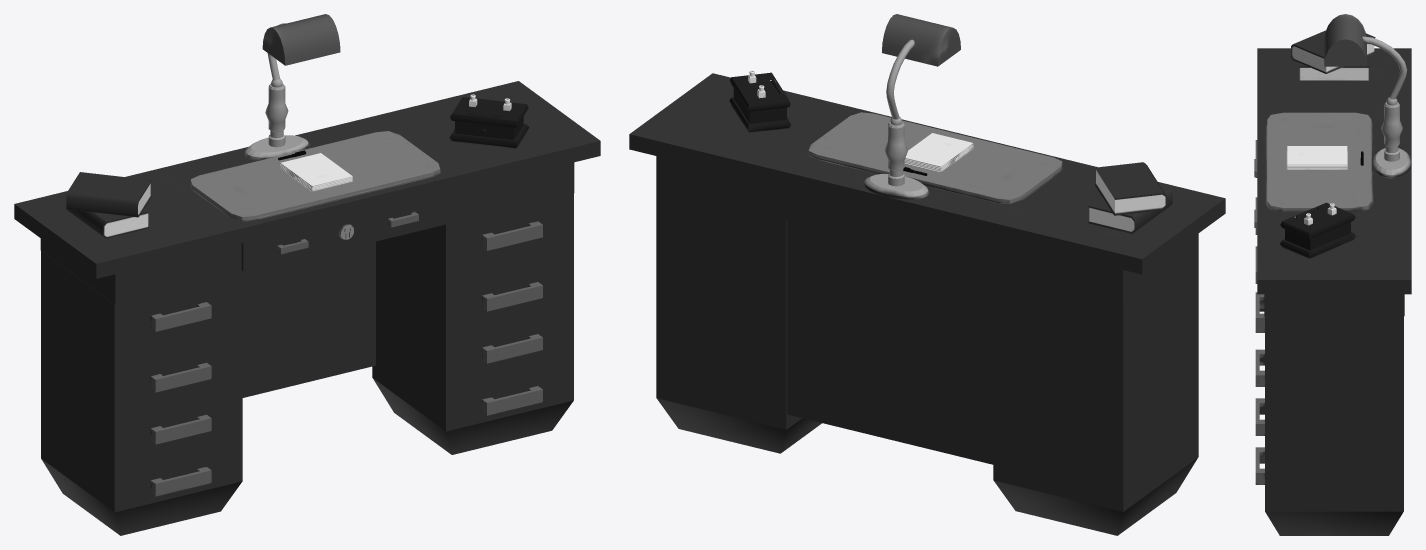
Rendered from locked desk textured.fbx.
The picture shows the model from 3 angles, left to right: view 1: azimuth 30°, elevation 25°; view 2: azimuth 150°, elevation 25°; view 3: azimuth 270°, elevation 25°; orthographic projection. The views are drawn at different scales.
Parts seen in each view (by area): view 1: pCube22; view 2: pCube22; view 3: pCube22.
Boxes of the visible parts, <box> form: pCube22: <box>14,14,600,535</box>; pCube22: <box>629,14,1225,535</box>; pCube22: <box>1254,14,1411,535</box>.
Bounding box in the file's own units: 18.26 × 15.09 × 5.23.
Materials: 1 (1 with a texture image).
